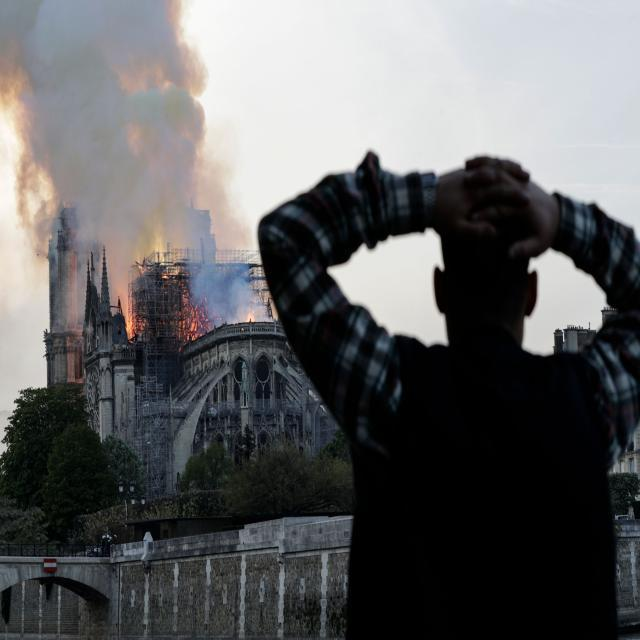Fire: (127, 261, 201, 343), (248, 313, 254, 321)
Smoke: (1, 0, 207, 249), (203, 264, 251, 304), (108, 253, 124, 299)
